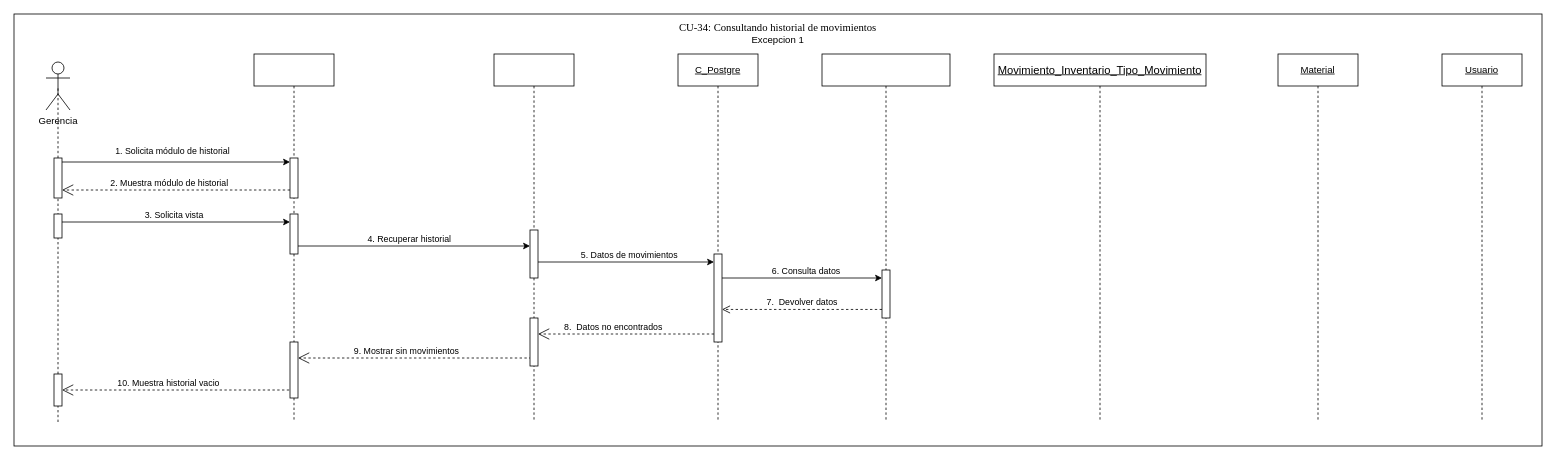
Image size: 1556x460. Some labels were removed from this diagram. The shapes that lost their labels are listed below. From the top down, each one's centre as x and y in pixels, then its label:
point (293, 237): V_Movimientos
point (533, 237): C_movimientos
point (885, 237): Movimiento_Inventario
